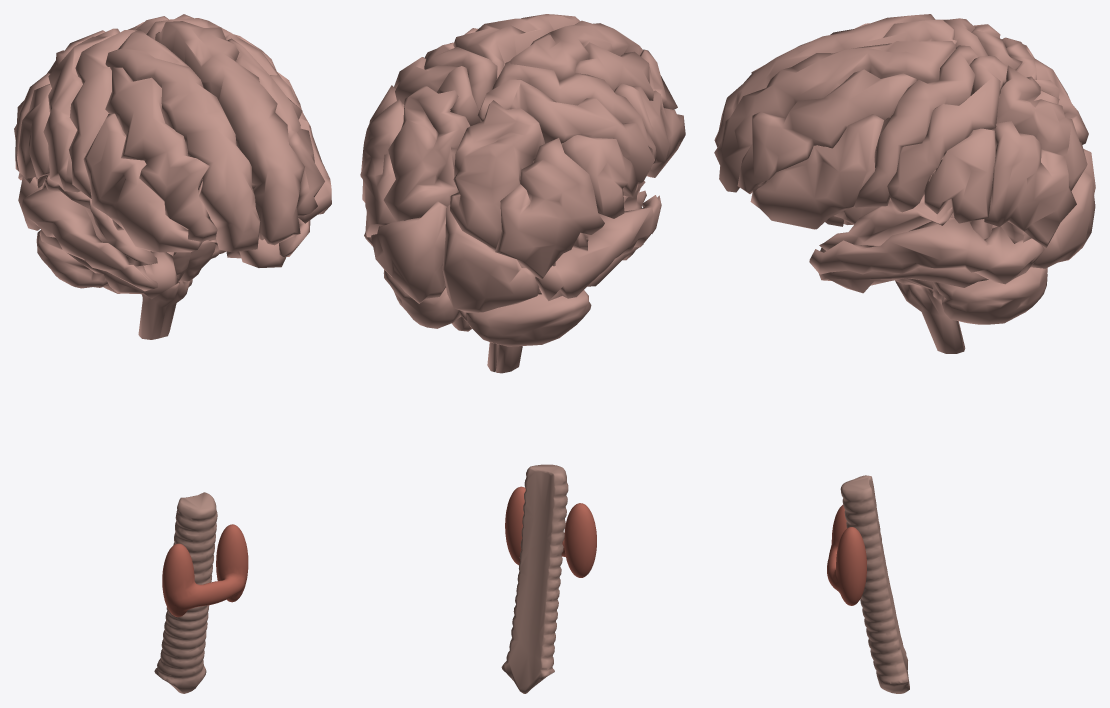
Rendered from head-organs.glb.
The picture shows the model from 3 angles, left to right: view 1: azimuth 30°, elevation 25°; view 2: azimuth 150°, elevation 25°; view 3: azimuth 270°, elevation 25°; orthographic projection.
Visible parts, largest first — view 1: brain, trachea, thyroid_gland; view 2: brain, trachea, thyroid_gland; view 3: brain, trachea, thyroid_gland.
Boxes of the visible parts, box(x1,y1,x2,y2) form: brain: box(14, 14, 331, 339); trachea: box(154, 492, 217, 693); thyroid_gland: box(162, 524, 248, 617); brain: box(360, 14, 685, 373); trachea: box(501, 464, 568, 693); thyroid_gland: box(505, 486, 596, 577); brain: box(714, 14, 1095, 353); trachea: box(840, 475, 909, 693); thyroid_gland: box(827, 505, 866, 605).
Size of the model in its own units: 0.1394 by 0.3459 by 0.1804.
